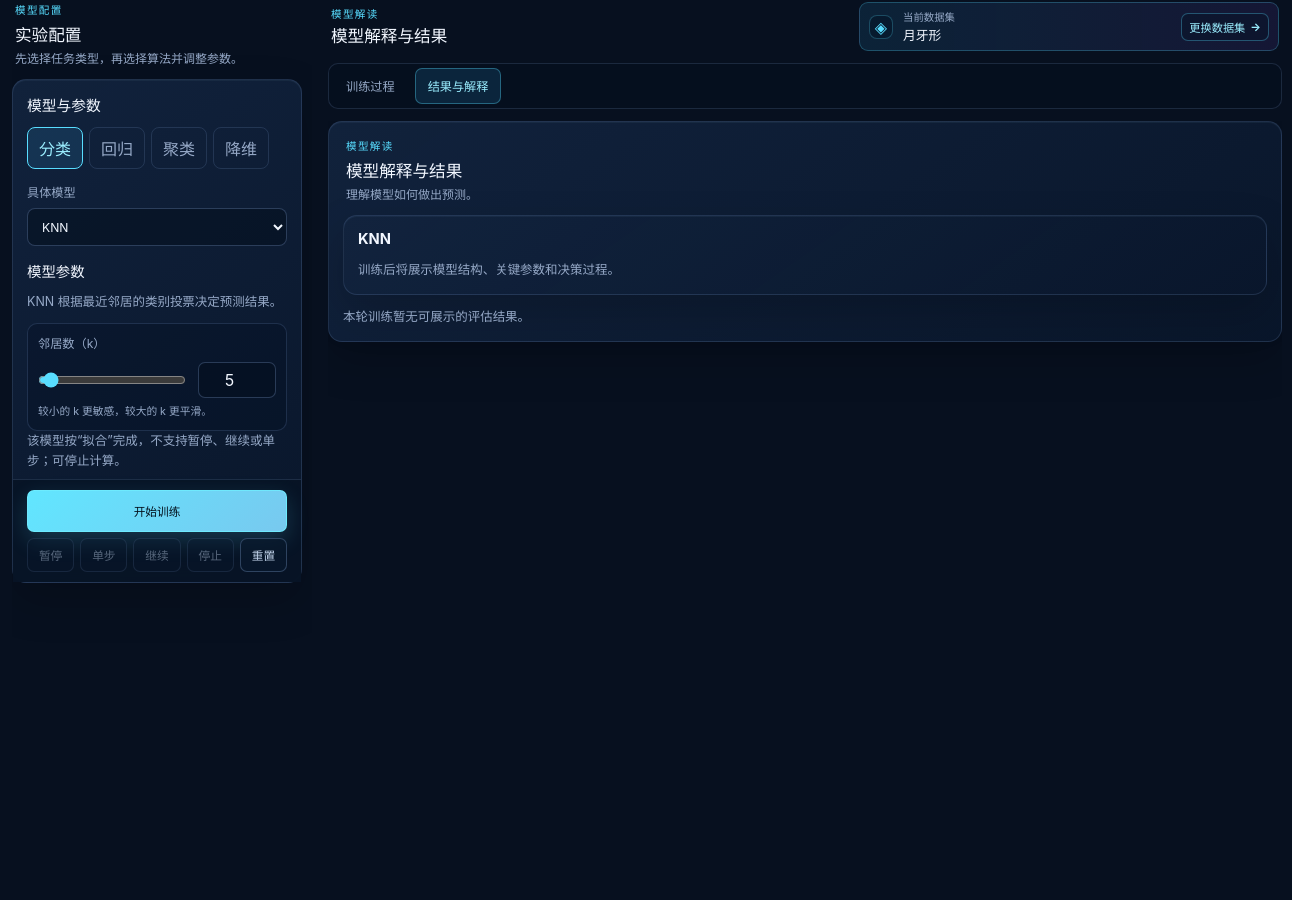
Test: 单页训练工作台 › 非迭代模型完成时展示拟合完成时间线
The image size is (1292, 900).
Click the tab "训练过程": (370, 86) [333,68,408,104]
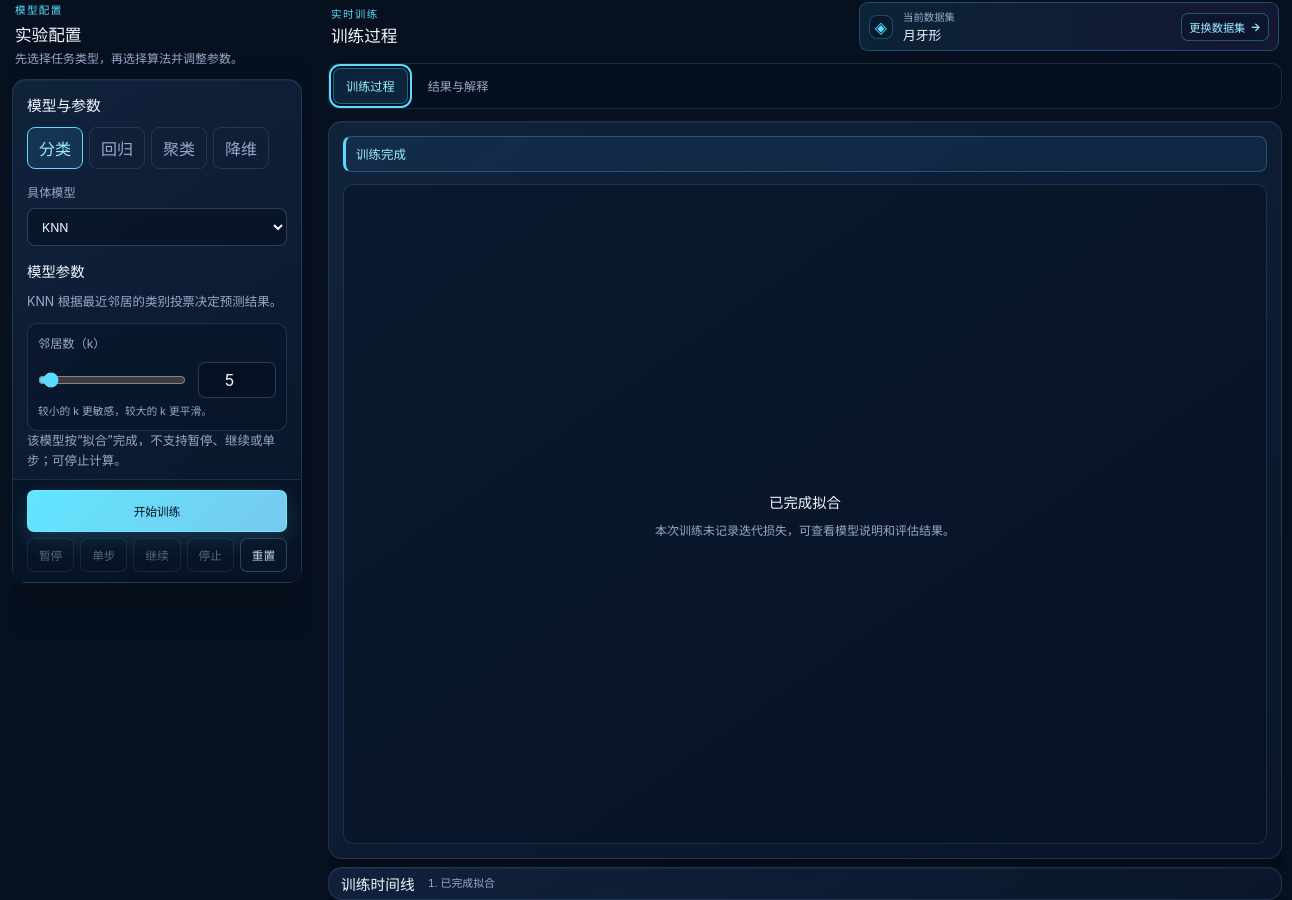
Check: the list item reads "已完成拟合", box [441,876,495,890]
